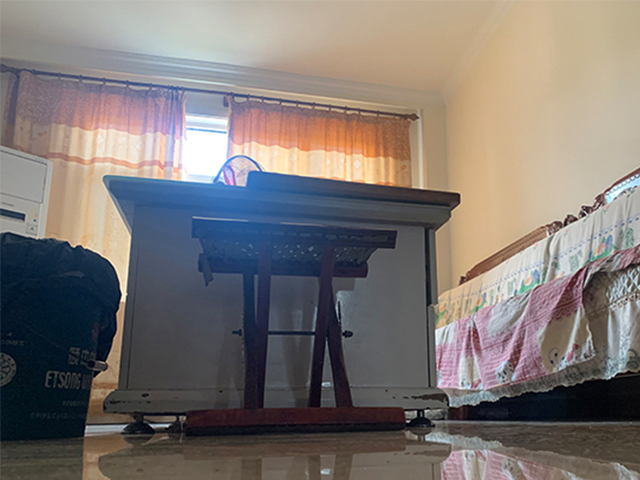curtain: (5, 70, 186, 424)
sofa: (432, 168, 640, 420)
stool: (186, 217, 407, 432)
table: (101, 174, 449, 434)
